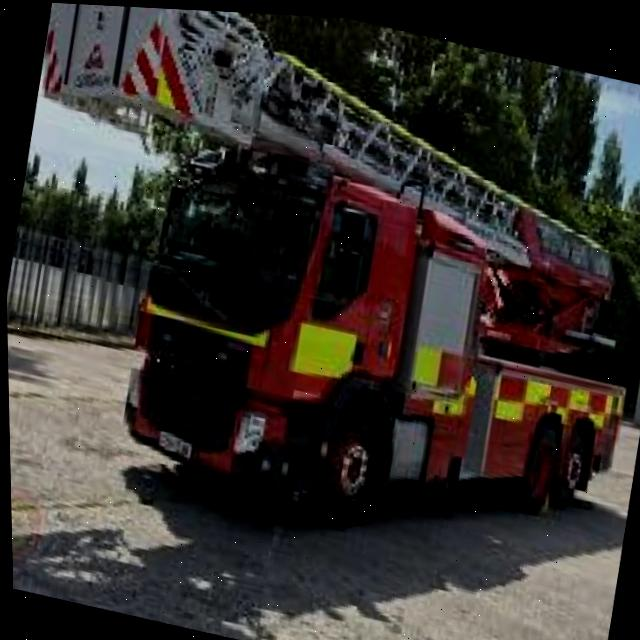emergency: (98, 117, 640, 585)
